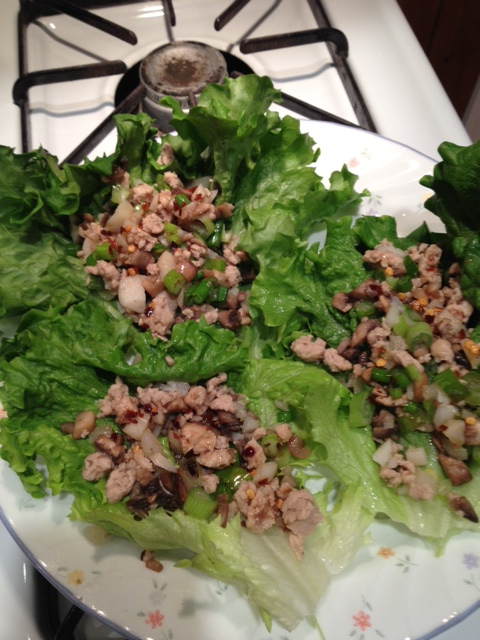chopped lettuce: (2, 149, 480, 570)
